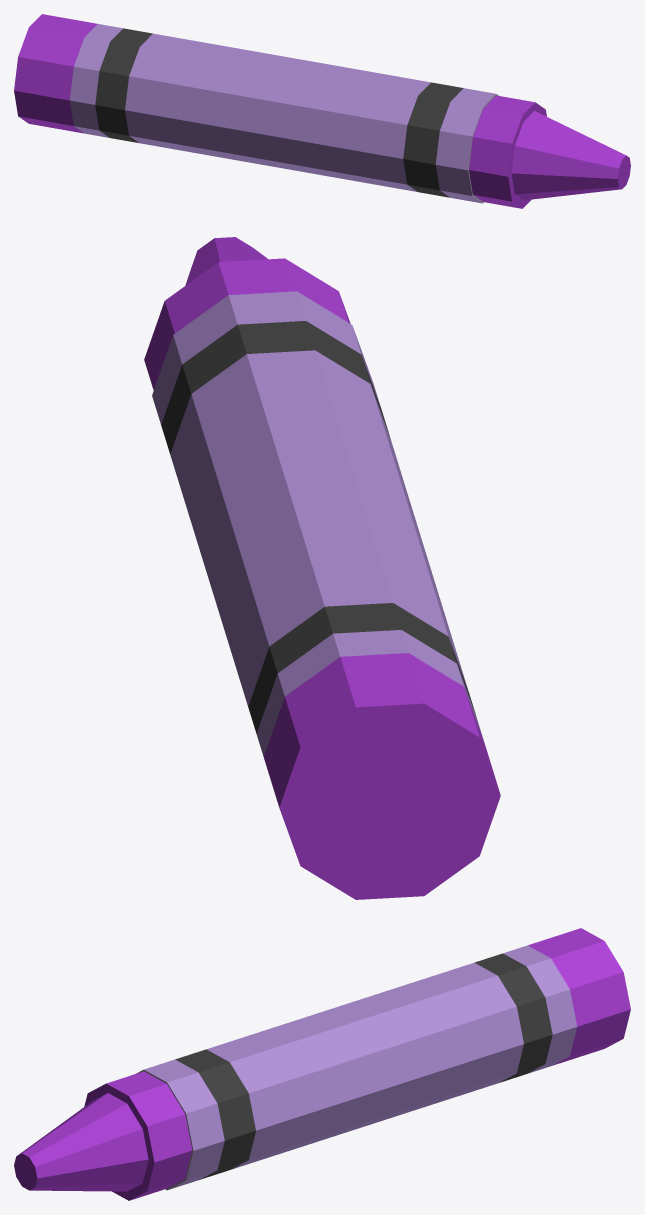
File: Crayon_02.fbx
3 renders of one model, top to bottom at view 1: azimuth 30°, elevation 25°; view 2: azimuth 150°, elevation 25°; view 3: azimuth 270°, elevation 25°, orthographic. The views are drawn at different scales.
Parts seen in each view (by area): view 1: Crayon_02; view 2: Crayon_02; view 3: Crayon_02.
Boxes of the visible parts, x1=… form: Crayon_02: x1=14, y1=14, x2=630, y2=208; Crayon_02: x1=144, y1=237, x2=500, y2=899; Crayon_02: x1=14, y1=928, x2=630, y2=1200.
Bounding box in the file's own units: 2.22 × 0.5291 × 2.74.
